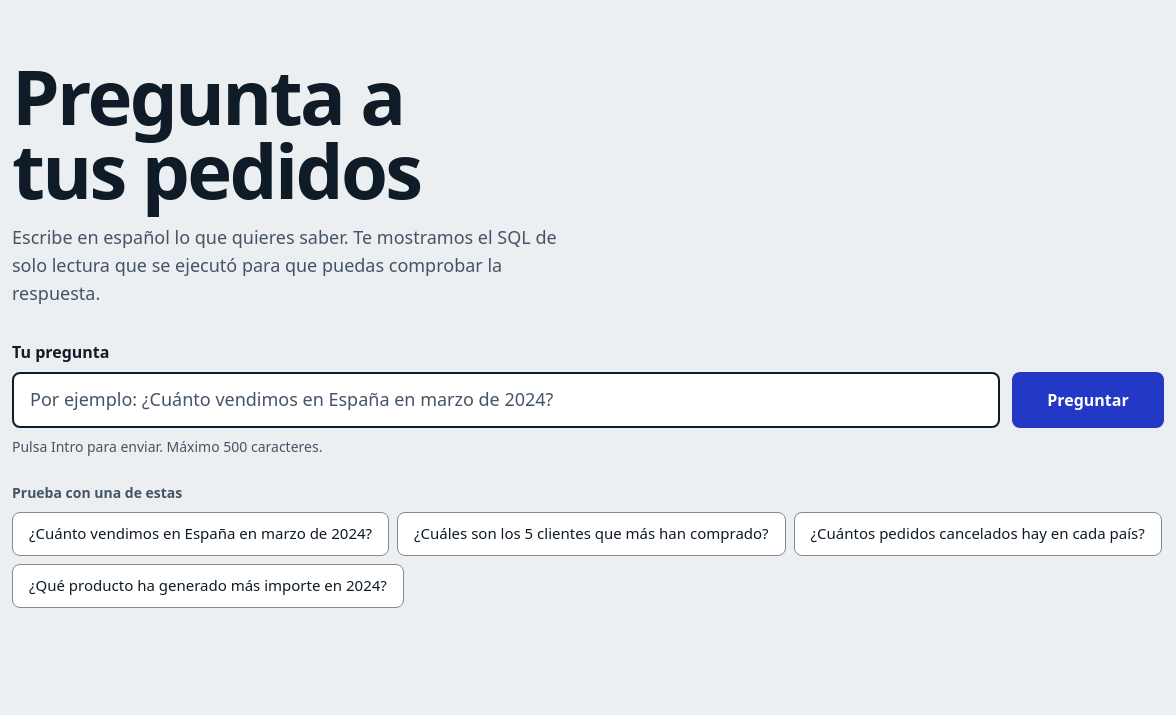
Test: QuestionPanel › muestra un mensaje en español para sql_no_valida
This screenshot has width=1176, height=715.
Step 1. Type "borra todo" into the field labelled "Tu pregunta" → x=506, y=400, box [12,372,1000,428]
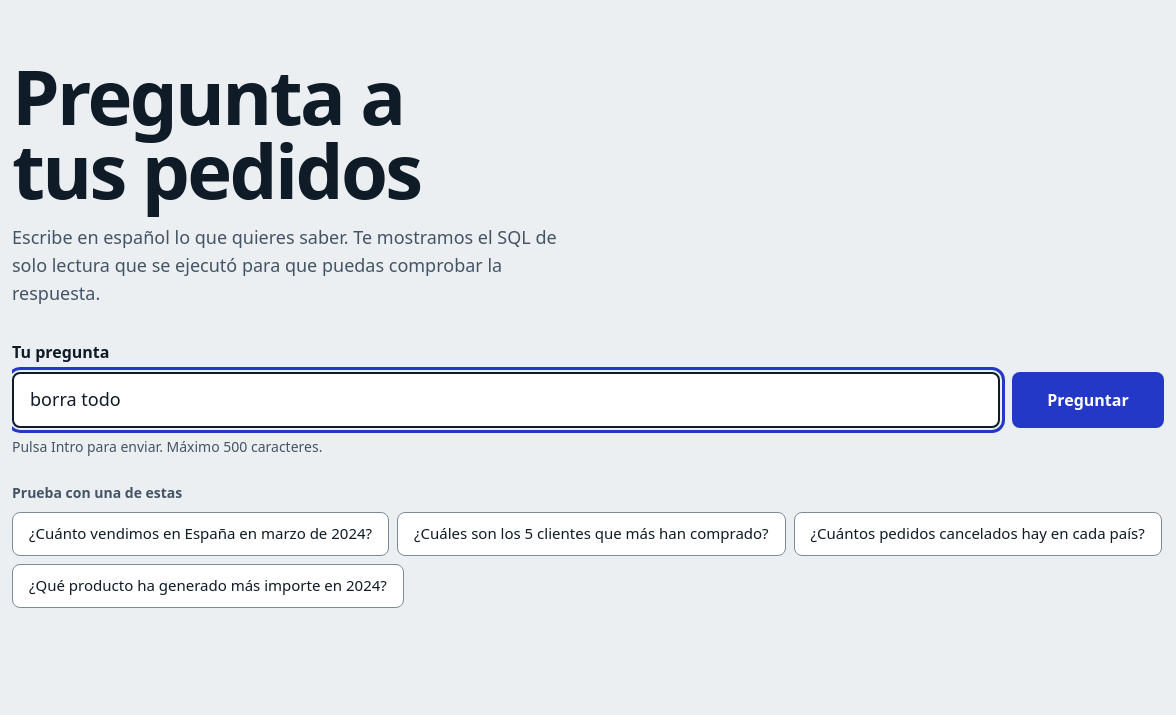
Step 2. Click the button "Preguntar" → x=1088, y=400, box [1012,372,1164,428]
(page scrolled)
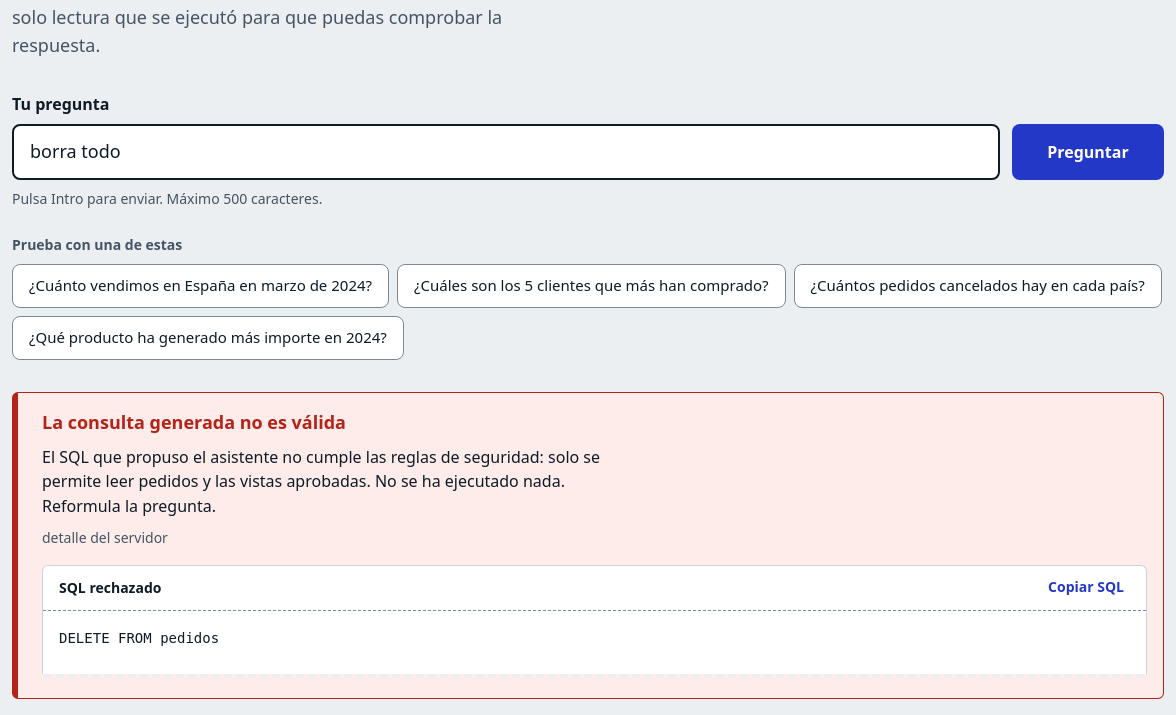
Expected: the message shows "La consulta generada no es válida", [42,410,346,434]
